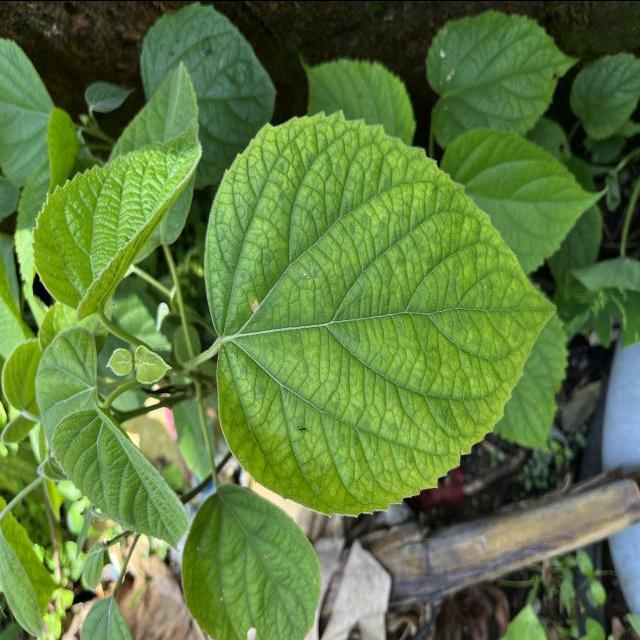Clerodendrum infortunatum: (200, 107, 560, 521), (29, 114, 202, 323), (439, 125, 611, 278), (423, 7, 582, 148), (47, 399, 190, 555), (296, 48, 420, 148)
